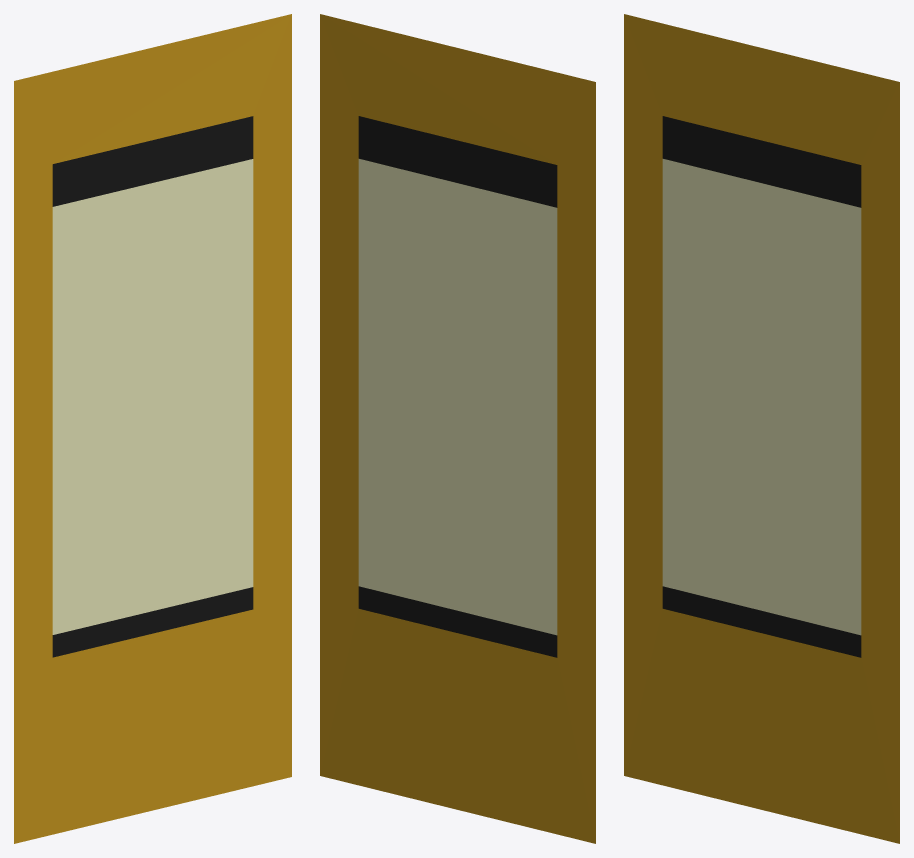
Rendered from Asian_Prop_Wall_Hanging_Painting_01.FBX.
3 renders of one model, left to right at view 1: azimuth 30°, elevation 25°; view 2: azimuth 150°, elevation 25°; view 3: azimuth 330°, elevation 25°, orthographic.
Parts seen in each view (by area): view 1: Asian_Prop_Wall_Hanging_Painting_01; view 2: Asian_Prop_Wall_Hanging_Painting_01; view 3: Asian_Prop_Wall_Hanging_Painting_01.
Boxes of the visible parts, box(x1,y1,x2,y2) form: Asian_Prop_Wall_Hanging_Painting_01: box(14, 14, 291, 843); Asian_Prop_Wall_Hanging_Painting_01: box(320, 14, 595, 843); Asian_Prop_Wall_Hanging_Painting_01: box(624, 14, 899, 843).
Size of the model in its own units: 1203 by 3169 by 6.
